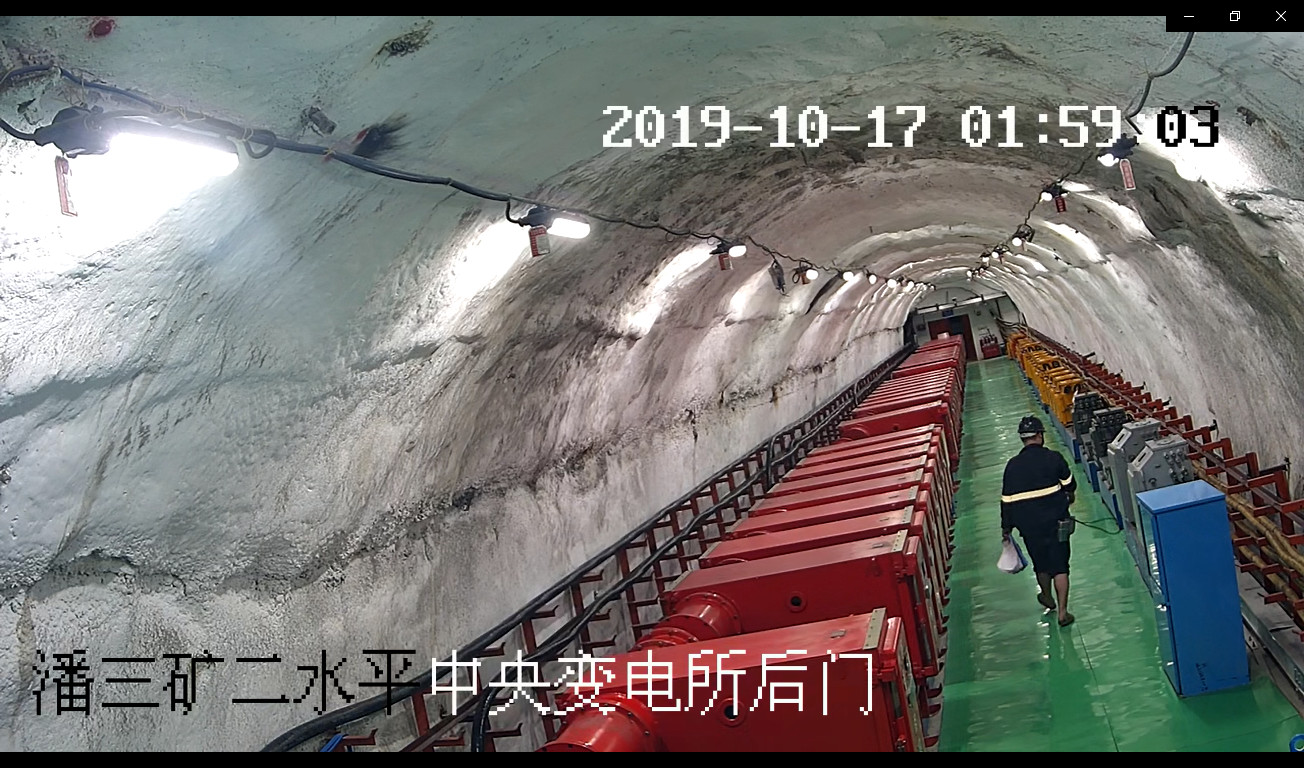helmet: (1016, 416, 1045, 432)
